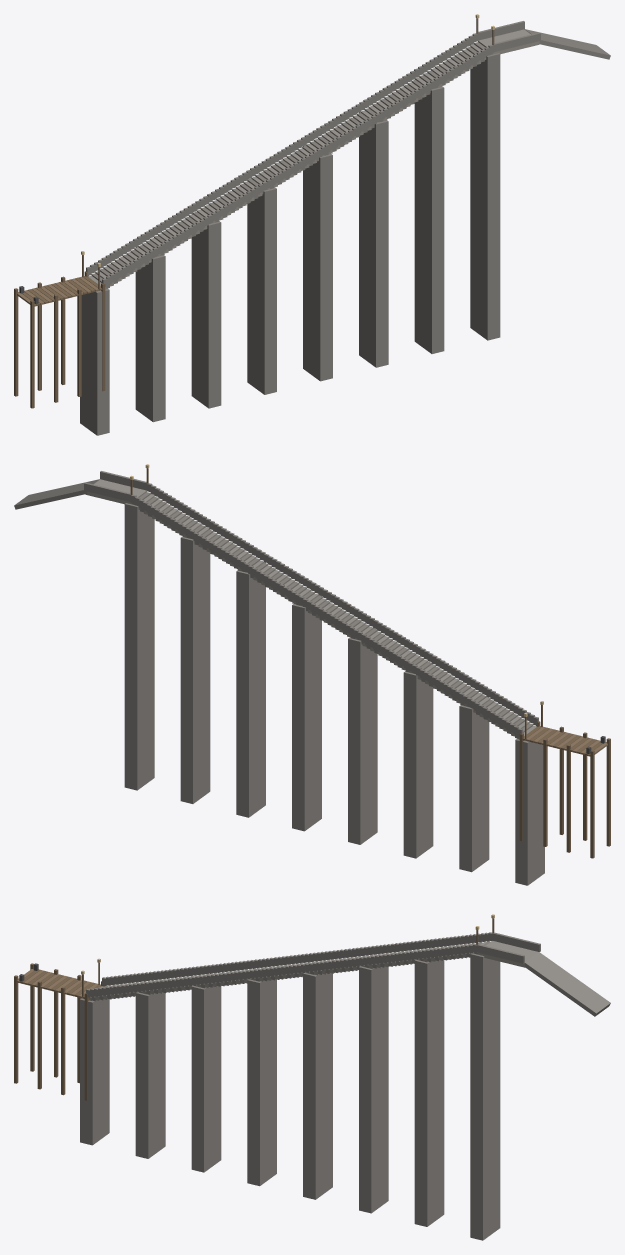
File: ash_landing_hot_spring.glb
3 views of the same model, one above another, from view 1: azimuth 30°, elevation 25°; view 2: azimuth 150°, elevation 25°; view 3: azimuth 330°, elevation 25° (orthographic).
Visible parts, largest first — view 1: geometry_0; view 2: geometry_0; view 3: geometry_0.
Boxes of the visible parts, box(x1,y1,x2,y2) form: geometry_0: box(14, 14, 610, 435); geometry_0: box(14, 464, 610, 885); geometry_0: box(14, 914, 610, 1240).
Size of the model in its own units: 74.02 by 38 by 3.95.
